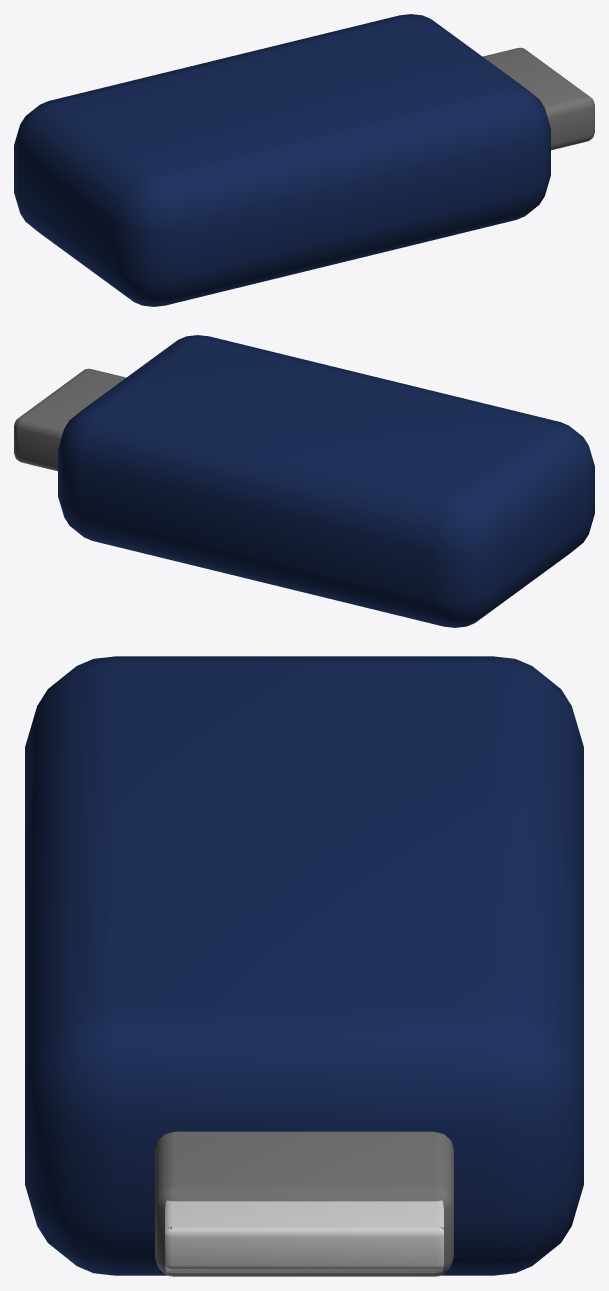
The model's file is USB.fbx.
3 renders of one model, top to bottom at view 1: azimuth 30°, elevation 25°; view 2: azimuth 150°, elevation 25°; view 3: azimuth 270°, elevation 25°, orthographic. The views are drawn at different scales.
Parts seen in each view (by area): view 1: USB; view 2: USB; view 3: USB.
Boxes of the visible parts, <box> form: USB: <box>14,14,594,306</box>; USB: <box>14,335,594,627</box>; USB: <box>25,656,583,1276</box>.
Bounding box in the file's own units: 24.04 × 6.06 × 11.81.
